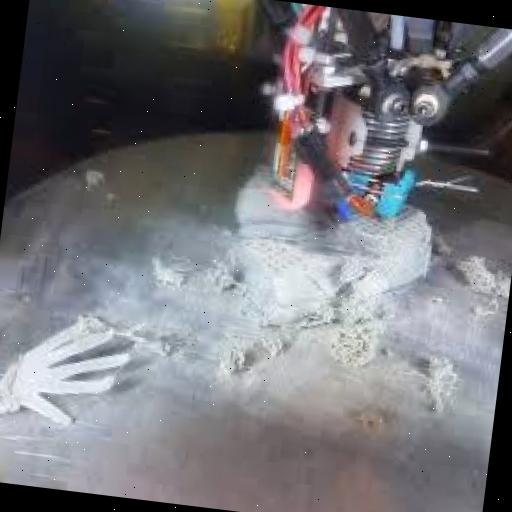spaghetti: (194, 278, 397, 398), (122, 207, 235, 311), (65, 302, 167, 367), (402, 344, 471, 434), (438, 238, 504, 312)
